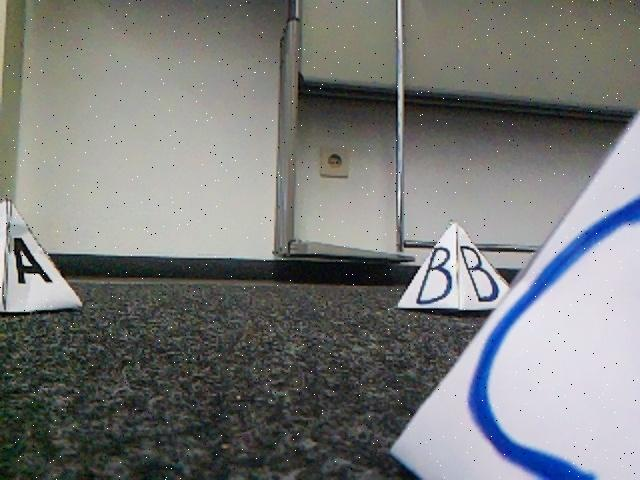A: (0, 197, 88, 318)
B: (396, 217, 522, 310)
C: (380, 95, 640, 479)
